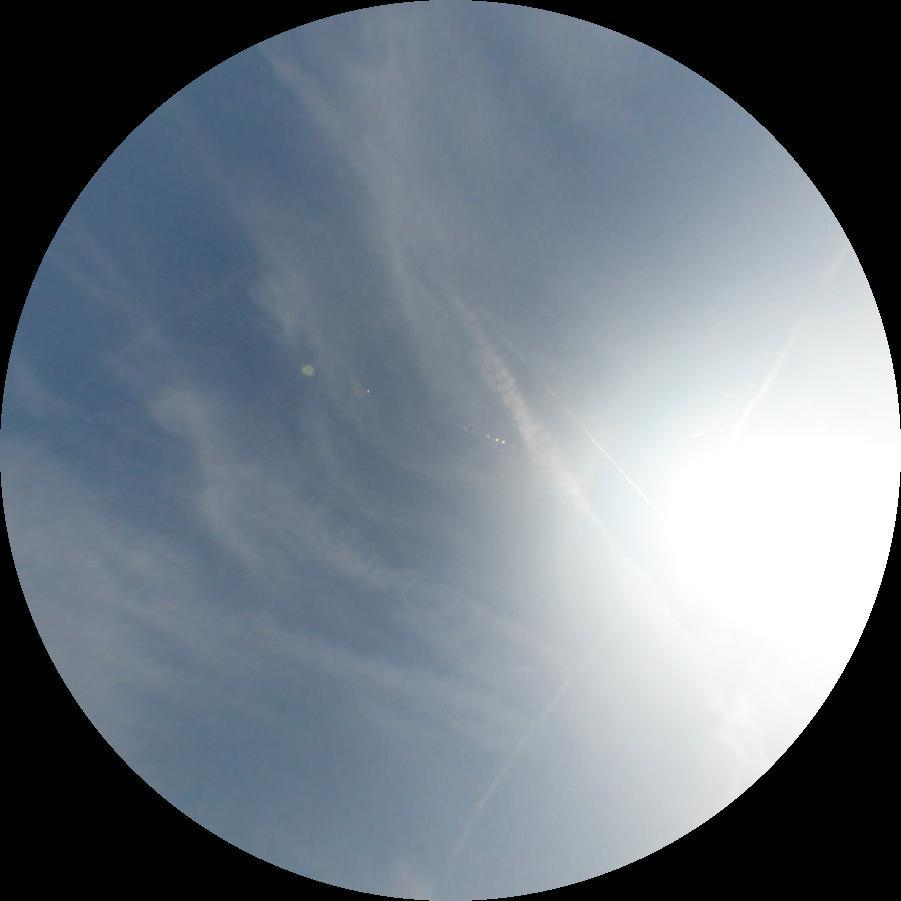contrail old: (438, 240, 860, 874)
contrail veryold: (247, 16, 637, 603), (189, 443, 576, 720), (194, 598, 538, 761)
contrail young: (97, 47, 680, 364), (474, 301, 665, 521), (492, 668, 546, 673)
sun: (660, 433, 898, 698)
